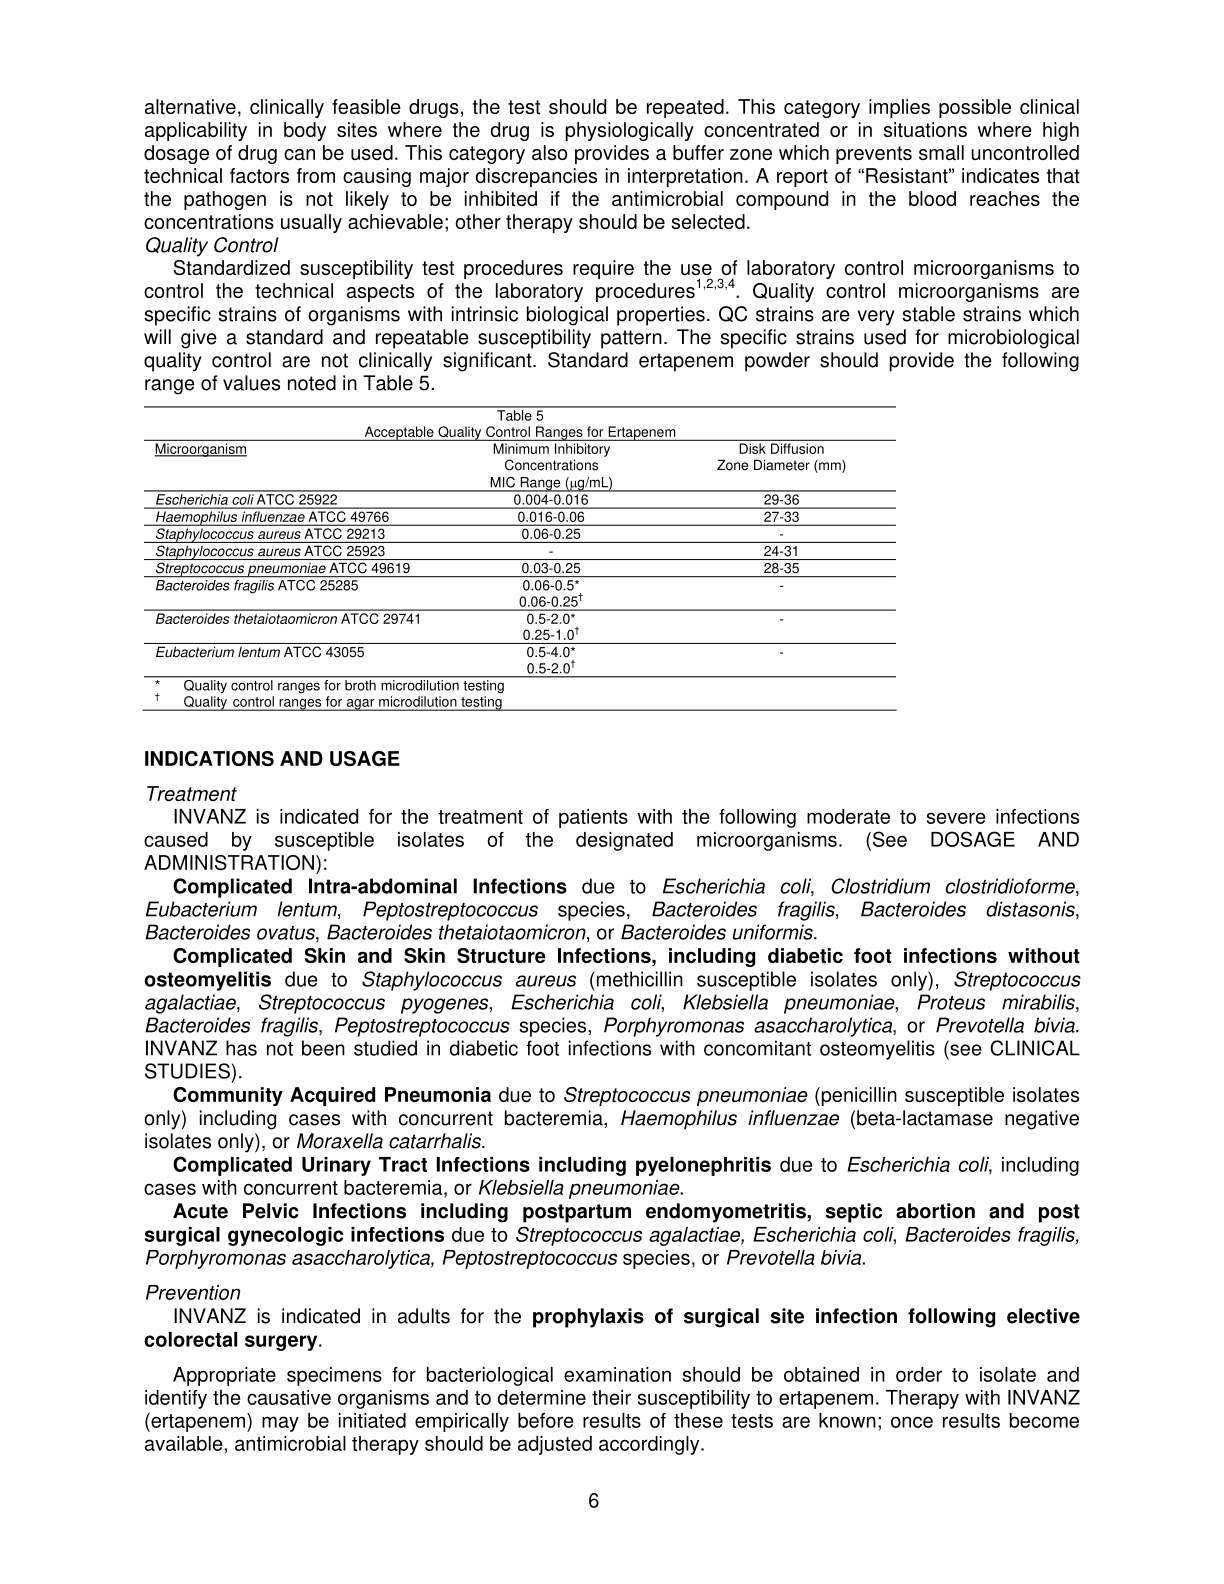partial_lined_merged_cells: (141, 405, 899, 678)
